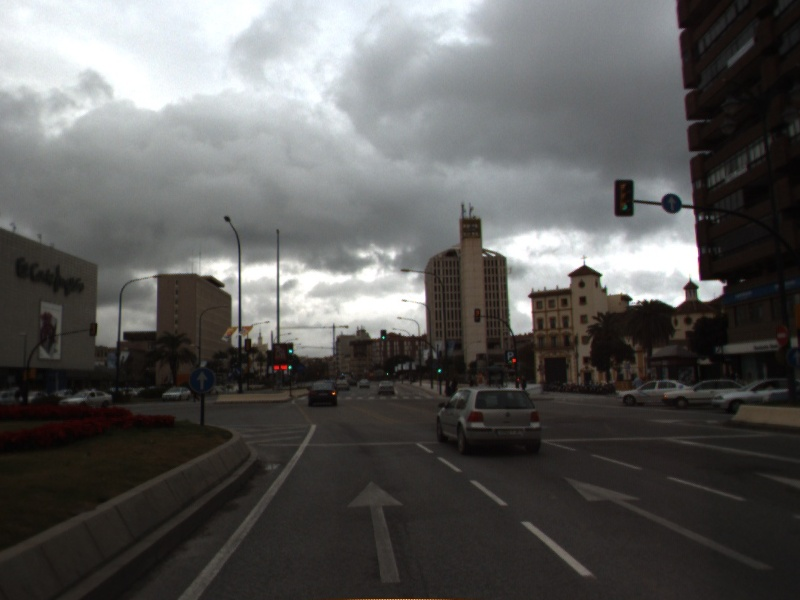STRAIGHT: (558, 472, 779, 574), (344, 477, 407, 586)
